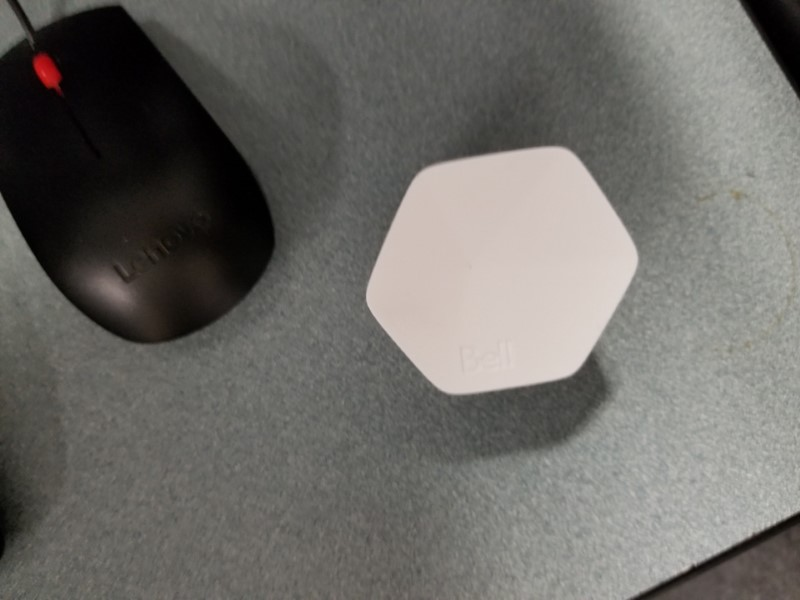pod: (362, 139, 651, 401)
